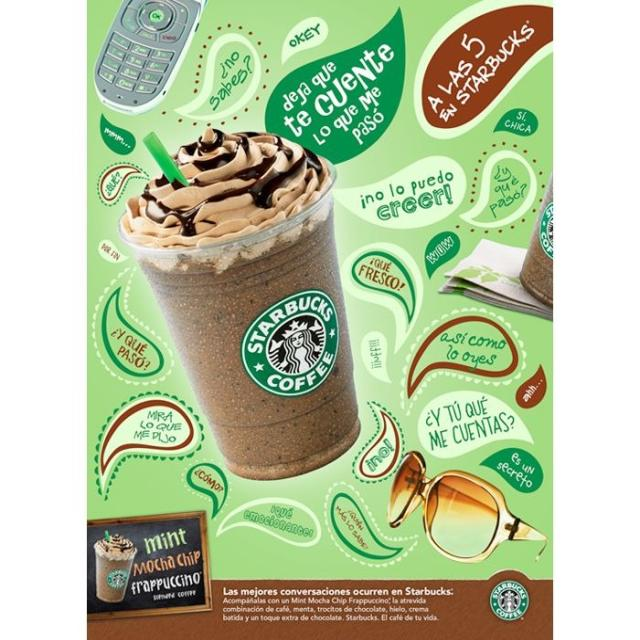starbucks: (239, 288, 344, 400), (101, 562, 127, 596)
